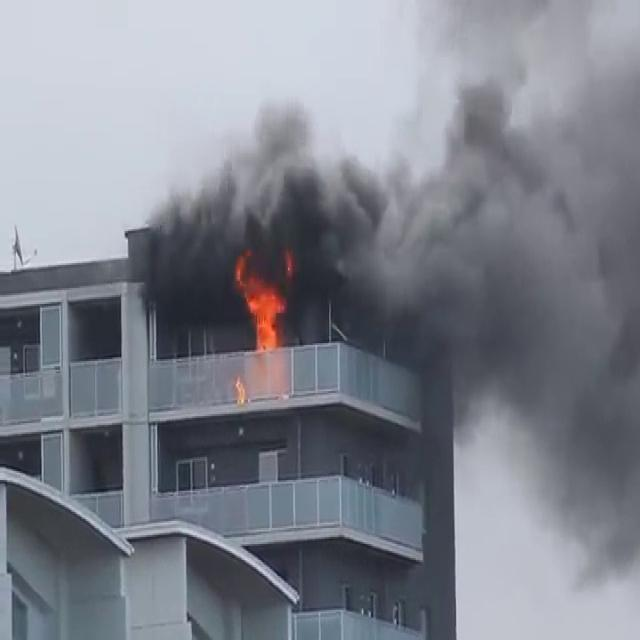Fire: (232, 250, 292, 356)
Smoke: (133, 59, 640, 366)
